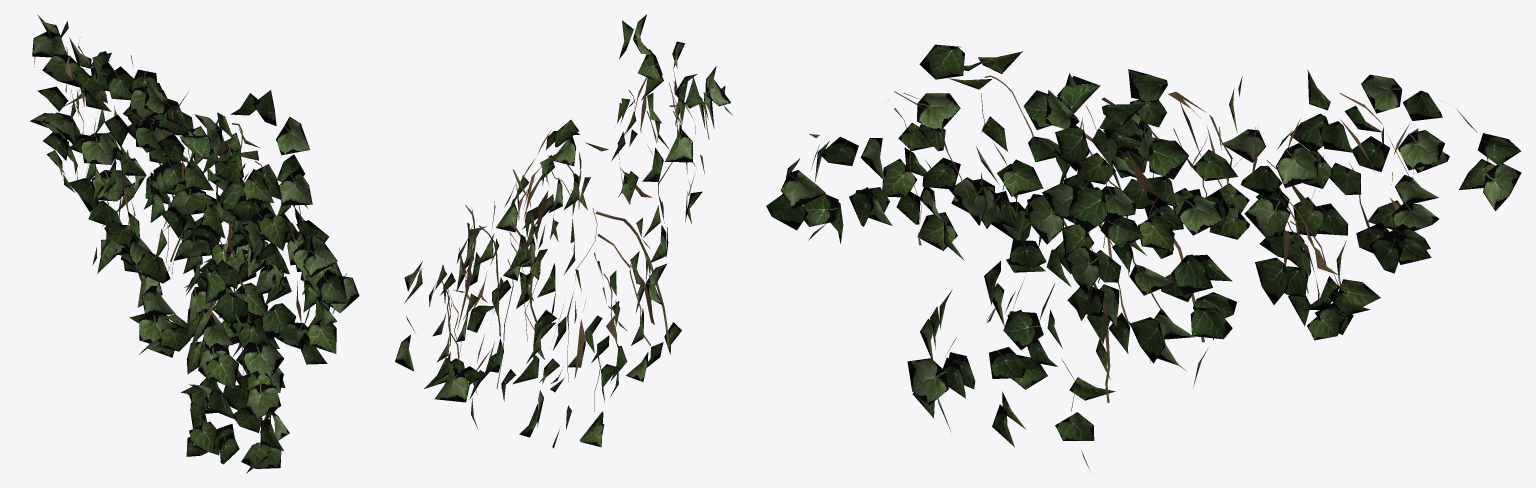
Rendered from SM_Ivy_01b.gltf.
The picture shows the model from 3 angles, left to right: view 1: azimuth 30°, elevation 25°; view 2: azimuth 150°, elevation 25°; view 3: azimuth 270°, elevation 25°; orthographic projection. The views are drawn at different scales.
Parts seen in each view (by area): view 1: SM_Ivy_01b; view 2: SM_Ivy_01b; view 3: SM_Ivy_01b.
Part boxes in pixels (bbox=[...]): SM_Ivy_01b: bbox=[30, 14, 359, 473]; SM_Ivy_01b: bbox=[395, 14, 732, 448]; SM_Ivy_01b: bbox=[766, 44, 1521, 469].
Bounding box in the file's own units: 0.4663 × 1.63 × 2.39.
Materials: 2 (2 with a texture image).
